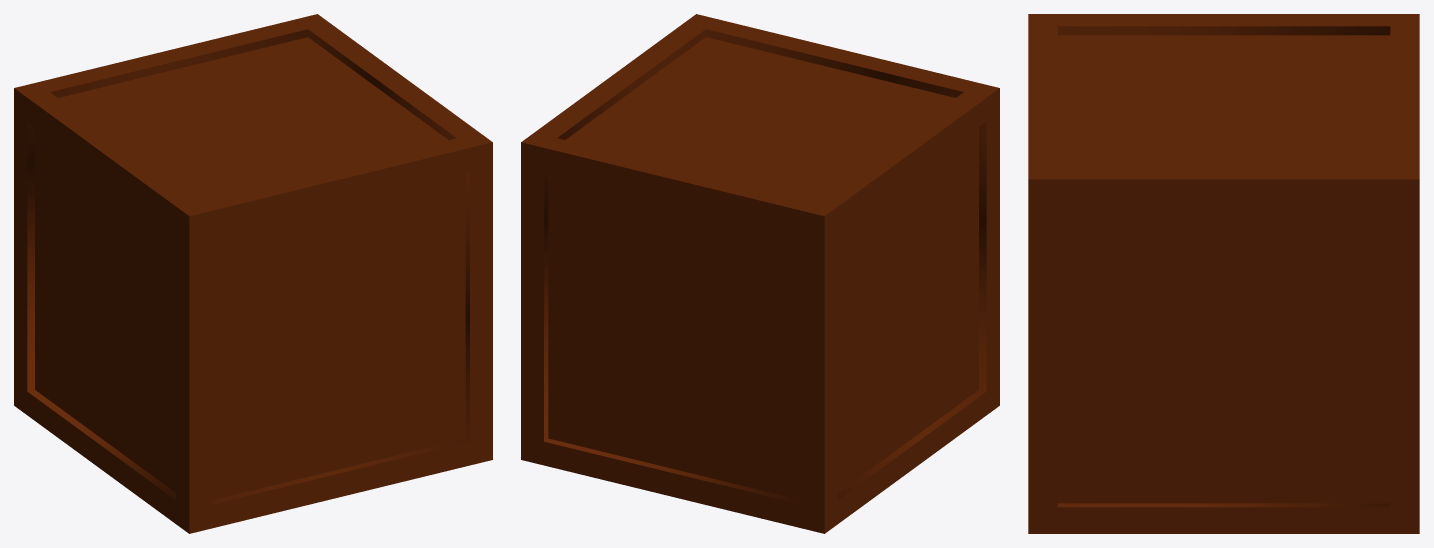
File: WoodBox.fbx
The picture shows the model from 3 angles, left to right: view 1: azimuth 30°, elevation 25°; view 2: azimuth 150°, elevation 25°; view 3: azimuth 270°, elevation 25°; orthographic projection. The views are drawn at different scales.
Parts seen in each view (by area): view 1: WoodBox; view 2: WoodBox; view 3: WoodBox.
Part boxes in pixels (<box>): WoodBox: <box>14,14,492,533</box>; WoodBox: <box>521,14,999,533</box>; WoodBox: <box>1028,14,1419,533</box>.
Size of the model in its own units: 200 by 200 by 200.
